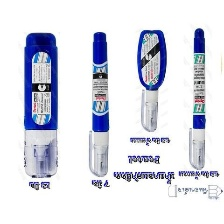correction_fluid: (21, 30, 60, 181), (86, 29, 112, 178), (134, 27, 169, 133), (187, 26, 208, 171)
